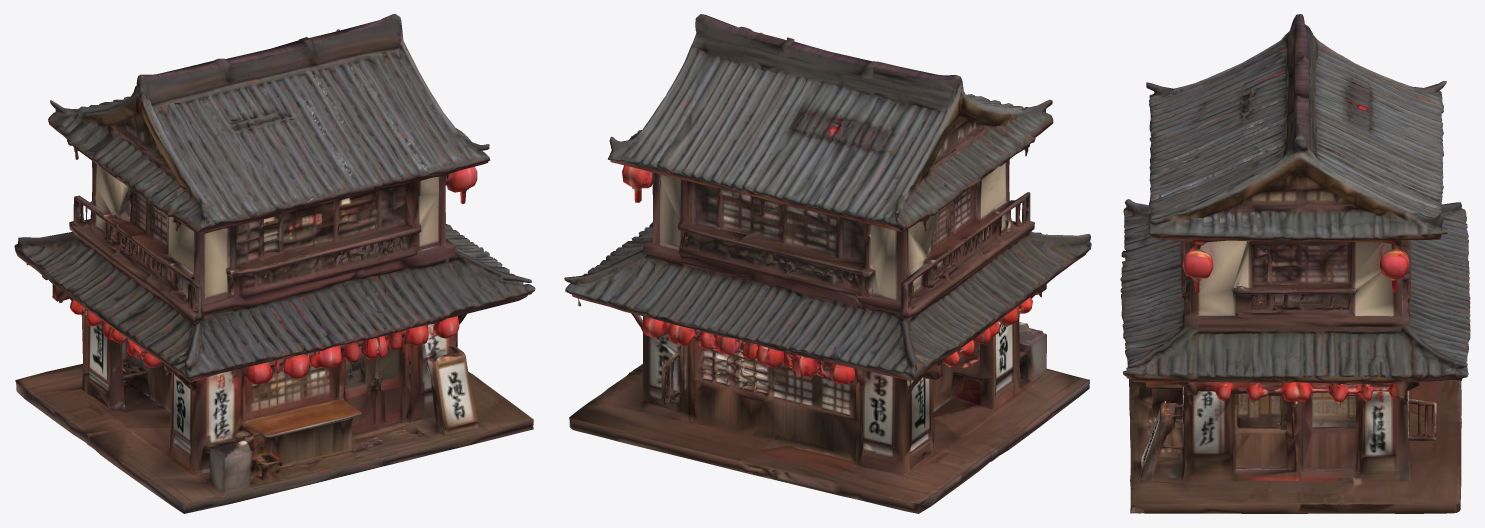
The model's file is bq_shop_lantern.glb.
3 views of the same model, side by side, from view 1: azimuth 30°, elevation 25°; view 2: azimuth 150°, elevation 25°; view 3: azimuth 270°, elevation 25° (orthographic). The views are drawn at different scales.
Bounding box in the file's own units: 1.99 × 1.98 × 1.77.
1 material, 1 textured.
